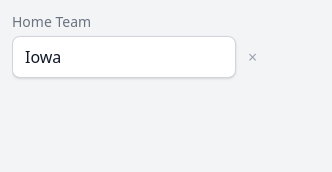
Test: SearchableSelect › clears the value when the clear button is clicked
Click the button named "Clear Home Team". click: (253, 57)
box: [240,41,265,73]
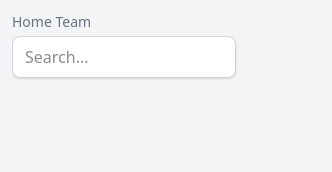
Now the dropdown labelled "Home Team" is empty, box [12,36,236,78]
